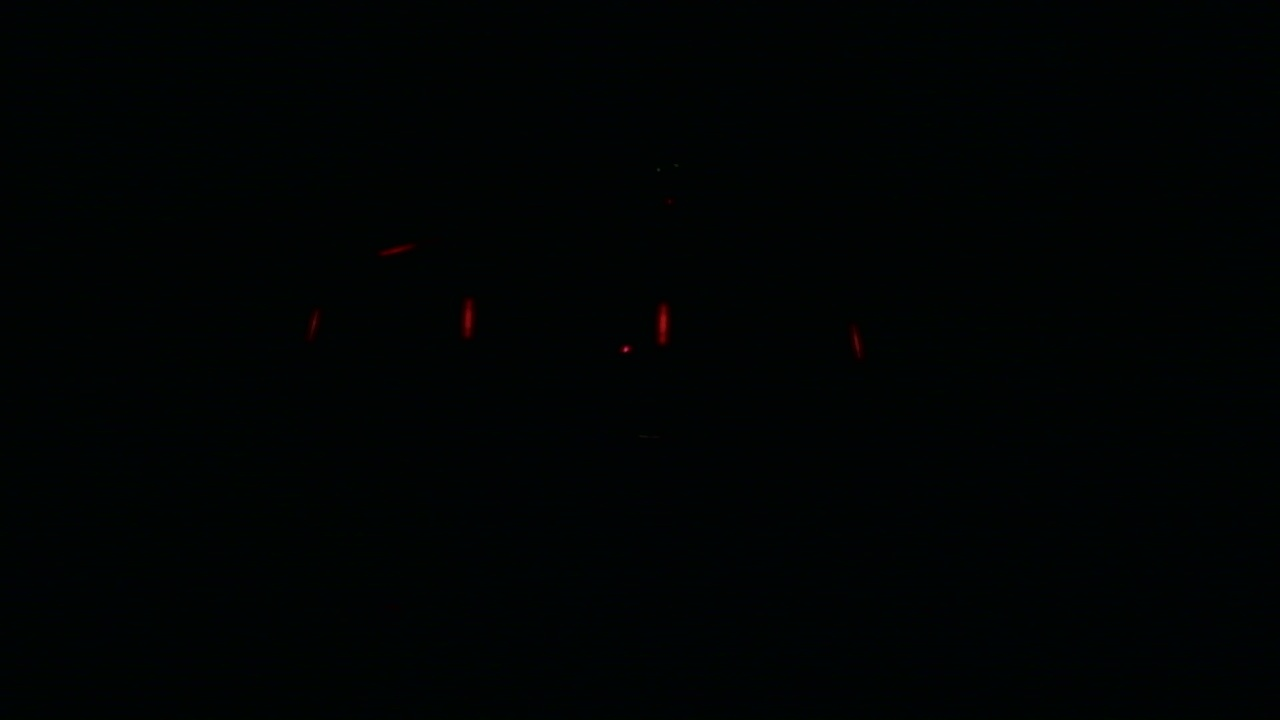lamp: (651, 293, 670, 346), (459, 290, 474, 346)
pair2: (460, 293, 672, 348)
